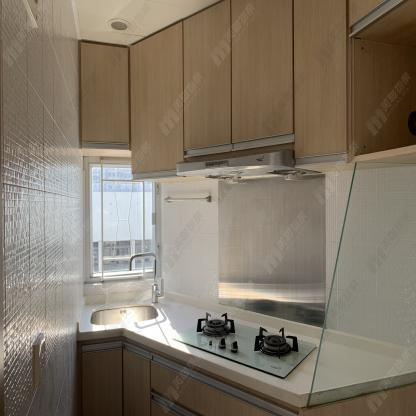Cupboard: (78, 1, 353, 178), (78, 339, 301, 416)
Exhaust Hood: (175, 150, 326, 185)
Faucet: (126, 248, 168, 302)
Sink: (90, 304, 158, 325)
Stove: (171, 313, 318, 378)
